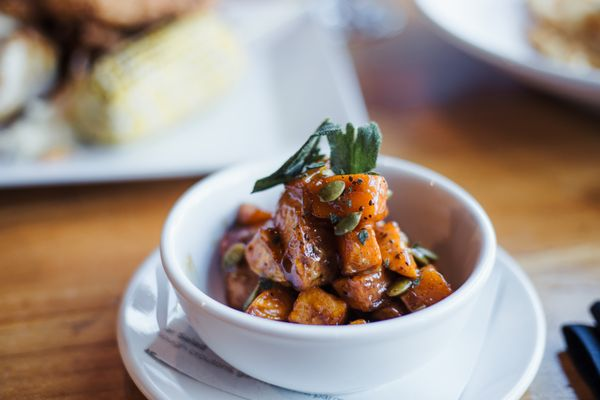sushi: (157, 135, 500, 395), (412, 1, 600, 121)
